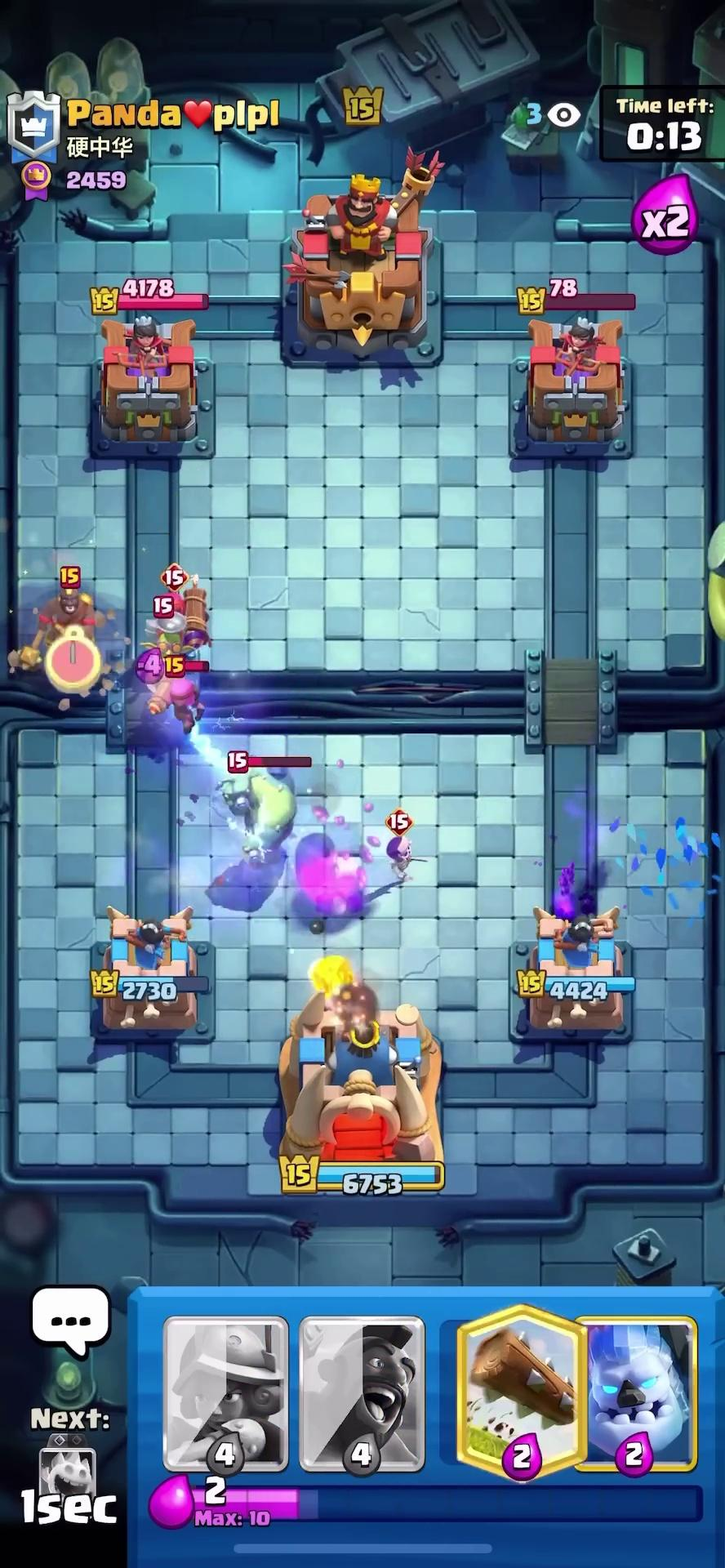fireball: (310, 945, 367, 1002)
